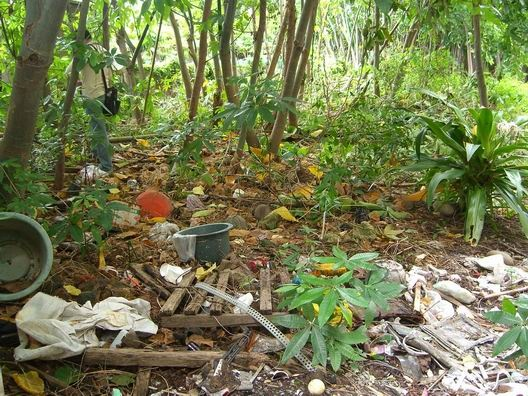bowl: (1, 209, 55, 306), (173, 221, 234, 264)
